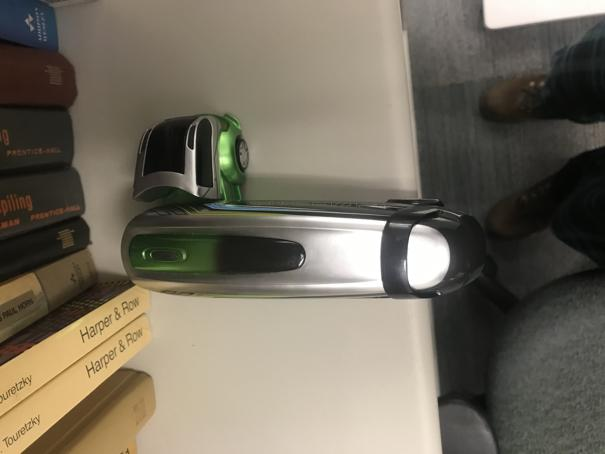Freewheel: (120, 112, 485, 300)
